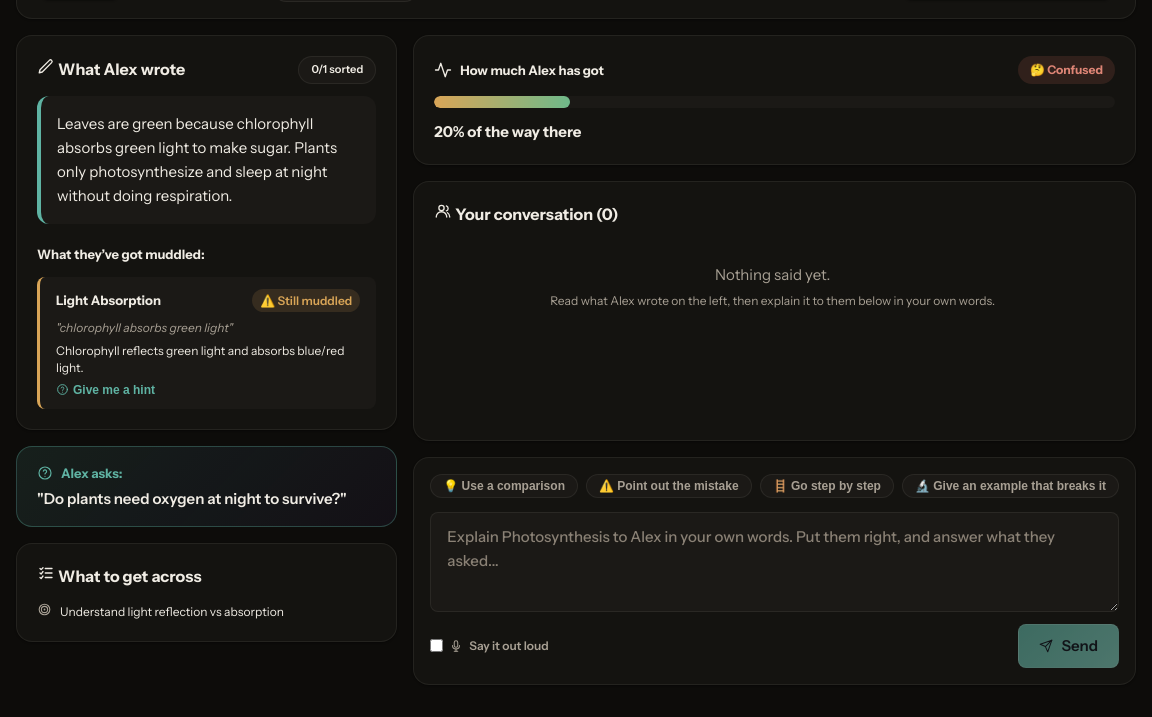
Scenario: FeynmanStudioView Component › marks a junk submission as not counting and leaves the gauge alone
(page scrolled)
Type "sdsi" into the text box with test id "teaching-textarea" at (775, 562), box [430,512,1119,612]
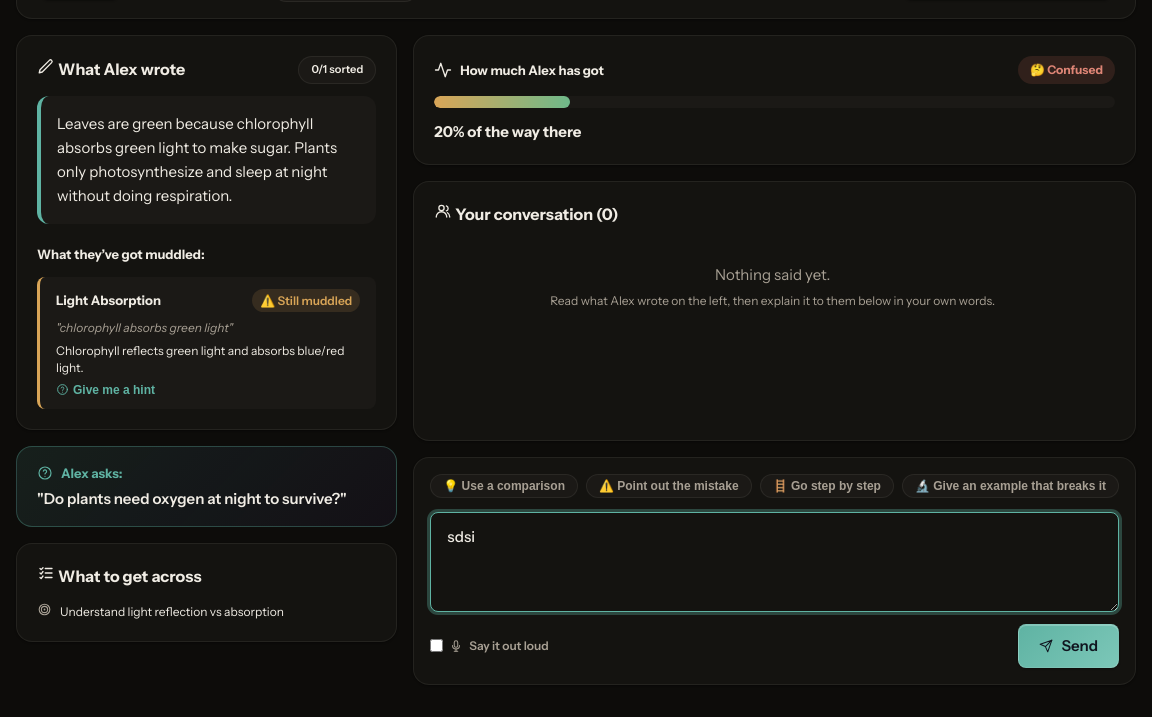
Click the button with test id "submit-explanation-btn" at (1069, 646), box [1018,624,1119,668]
(page scrolled)
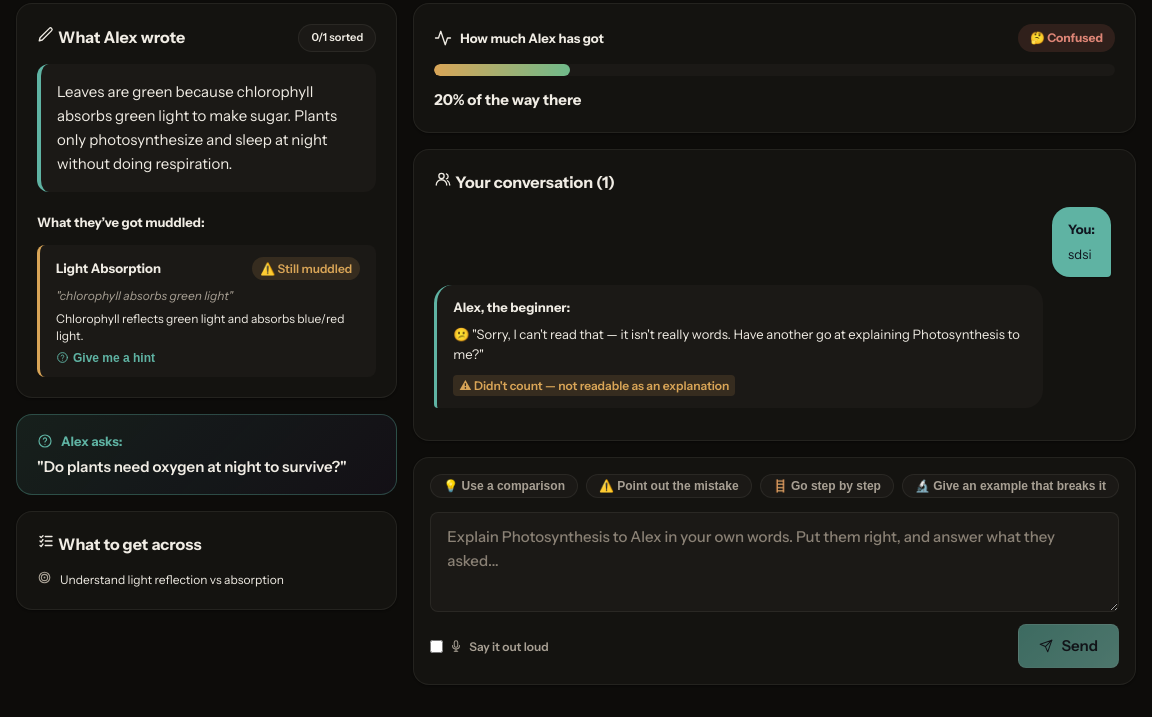
Expected: the element with test id "understanding-gauge" shows "20% of the way there", [413,3,1136,133]
Expected: the text with test id "turn-skipped-pill" shows "not readable as an explanation", [459,378,729,393]
Expected: the element with test id "apprentice-turn-bubble" shows "can't read that", [453,326,1020,362]
